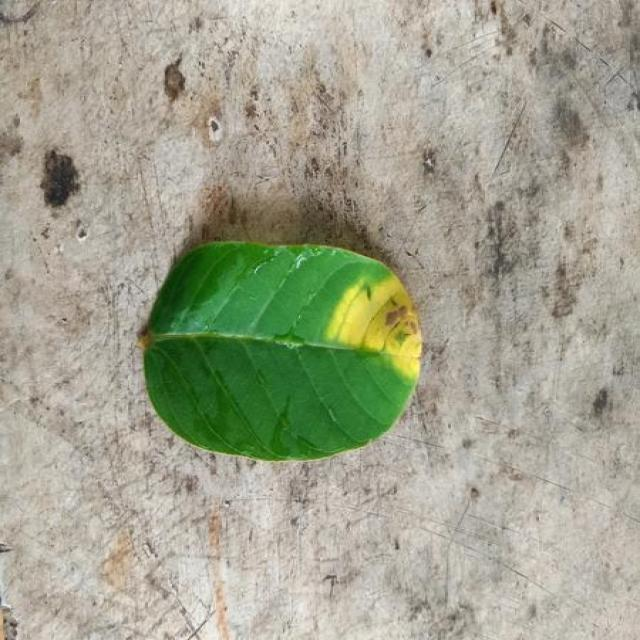seedling blight: (143, 244, 422, 460)
